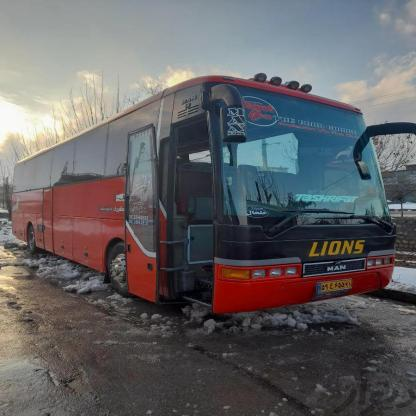Bus: (0, 76, 403, 322)
